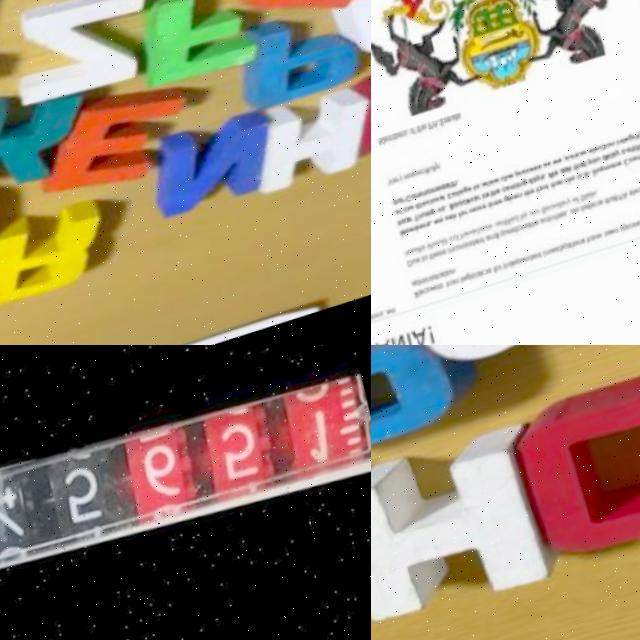1: (295, 410, 347, 479)
4: (0, 484, 32, 553)
5: (55, 463, 112, 539), (212, 423, 267, 495)
6: (135, 441, 190, 515)
A: (414, 329, 434, 345), (474, 197, 481, 207), (446, 185, 453, 195), (434, 124, 441, 133), (562, 205, 569, 213), (560, 172, 567, 180), (414, 284, 421, 291), (540, 190, 547, 197), (613, 156, 620, 163), (534, 180, 540, 188), (489, 237, 494, 246), (592, 240, 598, 247), (527, 227, 533, 234), (625, 197, 631, 204), (543, 222, 549, 229), (467, 235, 473, 242), (447, 219, 453, 226), (558, 185, 564, 192), (407, 219, 413, 226), (544, 167, 550, 174), (454, 118, 458, 126), (569, 248, 573, 255), (480, 275, 484, 282), (443, 275, 447, 282), (613, 201, 617, 208), (589, 197, 593, 204), (583, 166, 587, 173), (484, 186, 488, 193), (441, 199, 445, 206)
B: (604, 236, 612, 245), (530, 225, 538, 234), (479, 230, 487, 239), (417, 227, 425, 236), (582, 209, 589, 218), (451, 206, 458, 215), (394, 136, 401, 145), (523, 218, 527, 226)
C: (624, 163, 632, 173), (448, 196, 456, 205), (408, 197, 415, 207), (496, 225, 503, 233), (622, 153, 629, 161), (551, 209, 558, 216), (527, 172, 534, 179), (545, 221, 551, 228), (544, 189, 550, 196), (503, 190, 509, 197), (600, 150, 606, 157), (423, 172, 429, 179), (456, 249, 460, 256), (465, 202, 469, 209), (429, 202, 433, 209)
D: (529, 259, 537, 268), (517, 218, 524, 228), (418, 283, 425, 292), (444, 241, 451, 250), (603, 160, 610, 169), (502, 179, 509, 188), (497, 235, 502, 245), (409, 263, 416, 270), (530, 183, 536, 190), (512, 265, 516, 273)
E: (27, 67, 225, 209), (608, 157, 615, 165), (498, 191, 505, 199), (461, 192, 468, 200), (584, 154, 591, 162), (599, 238, 606, 245), (593, 207, 600, 214), (600, 204, 607, 211), (577, 211, 584, 218), (482, 230, 489, 237), (548, 210, 555, 217), (486, 229, 493, 236), (532, 192, 539, 199), (555, 174, 562, 181), (626, 152, 633, 159), (589, 153, 596, 160), (394, 180, 401, 187), (533, 257, 539, 265), (433, 288, 439, 296), (609, 234, 615, 242), (437, 254, 443, 262), (587, 208, 593, 216), (509, 232, 515, 240), (561, 216, 567, 224), (595, 195, 601, 203), (610, 168, 616, 176), (620, 165, 626, 173), (403, 220, 409, 228), (559, 162, 565, 170), (511, 177, 517, 185), (515, 264, 521, 271), (421, 292, 427, 299), (465, 280, 471, 287), (522, 261, 528, 268), (553, 252, 559, 259), (613, 233, 619, 240), (630, 195, 636, 202), (537, 224, 543, 231), (444, 252, 450, 259), (477, 242, 483, 249), (418, 260, 424, 267), (474, 233, 480, 240), (442, 221, 448, 228), (501, 202, 507, 209), (515, 197, 521, 204), (407, 231, 413, 238), (422, 226, 428, 233), (573, 180, 579, 187), (418, 207, 424, 214), (424, 204, 430, 211), (469, 190, 475, 197), (596, 151, 602, 158), (626, 142, 632, 149), (412, 207, 418, 214), (532, 171, 538, 178), (443, 188, 449, 195), (408, 176, 414, 183), (419, 173, 425, 180), (459, 117, 465, 124), (398, 135, 404, 142), (444, 121, 450, 128), (386, 139, 392, 146), (424, 128, 430, 135), (409, 253, 415, 259), (500, 225, 505, 232), (393, 310, 397, 317), (636, 193, 640, 200), (558, 207, 562, 214), (513, 221, 517, 228), (485, 207, 489, 214), (638, 226, 640, 233)
F: (123, 0, 272, 100), (496, 270, 501, 279), (448, 284, 453, 293), (578, 201, 583, 210), (460, 214, 465, 223), (538, 192, 543, 201), (414, 130, 419, 139), (428, 170, 432, 179), (510, 222, 514, 230), (637, 149, 640, 158), (402, 212, 405, 219)
G: (629, 139, 637, 149), (468, 276, 475, 286), (564, 247, 571, 256), (624, 228, 631, 237), (505, 198, 512, 207), (524, 182, 531, 191), (465, 190, 472, 199)
H: (371, 421, 565, 639), (241, 77, 371, 204), (431, 245, 439, 254), (419, 128, 427, 137), (588, 241, 595, 250), (570, 180, 577, 189), (399, 222, 406, 231), (463, 235, 468, 245), (528, 194, 535, 201), (555, 185, 560, 194), (455, 183, 460, 192), (578, 168, 584, 175), (408, 209, 414, 216), (609, 202, 613, 210), (434, 256, 438, 263), (495, 194, 499, 201)
I: (408, 334, 419, 345), (634, 150, 640, 160), (433, 278, 438, 287), (492, 204, 497, 213), (618, 145, 623, 154), (606, 148, 611, 157), (560, 216, 564, 226), (374, 316, 378, 325), (573, 246, 577, 255), (622, 231, 626, 240), (592, 207, 596, 216), (508, 222, 512, 231), (510, 199, 514, 208), (517, 186, 521, 195), (545, 256, 549, 264), (563, 249, 567, 257), (428, 280, 432, 288), (449, 274, 453, 282), (555, 218, 559, 226), (636, 139, 640, 147), (470, 246, 474, 252), (450, 251, 453, 258), (473, 278, 476, 285), (506, 268, 509, 274), (518, 231, 521, 237), (552, 220, 555, 226), (484, 198, 487, 204)
K: (0, 72, 95, 206), (454, 216, 462, 225), (569, 170, 577, 179), (468, 202, 472, 209)
L: (590, 208, 595, 216), (593, 152, 598, 160), (535, 224, 539, 233), (634, 194, 638, 203), (450, 185, 454, 194), (611, 158, 616, 165), (478, 276, 482, 284), (444, 242, 448, 250), (422, 205, 426, 213), (489, 184, 493, 192), (488, 184, 492, 192), (434, 169, 438, 177), (435, 169, 439, 177), (445, 199, 449, 205), (463, 281, 466, 287), (421, 251, 424, 257), (460, 195, 463, 201), (458, 194, 461, 200)
M: (402, 231, 410, 241), (380, 140, 387, 150), (495, 203, 502, 211), (427, 213, 434, 221), (456, 282, 463, 289), (614, 167, 621, 174), (471, 211, 478, 218), (512, 187, 519, 194), (423, 193, 430, 200), (417, 195, 424, 202), (423, 281, 429, 288), (413, 229, 419, 236), (391, 138, 397, 145)
N: (132, 104, 294, 226), (393, 336, 413, 345), (462, 246, 469, 254), (485, 195, 492, 203), (490, 228, 497, 235), (519, 196, 526, 203), (547, 254, 553, 262), (508, 265, 514, 273), (612, 146, 618, 154), (620, 143, 626, 151), (378, 315, 384, 322), (526, 261, 532, 268), (617, 232, 623, 239), (579, 244, 585, 251), (628, 229, 634, 236), (453, 272, 459, 279), (492, 238, 498, 245), (452, 250, 458, 257), (480, 241, 486, 248), (523, 228, 529, 235), (451, 240, 457, 247), (520, 185, 526, 192), (433, 191, 439, 198), (448, 120, 454, 127), (539, 257, 543, 264), (430, 279, 434, 286)
O: (508, 356, 640, 580), (341, 49, 371, 167), (523, 173, 530, 181), (412, 196, 419, 204), (484, 273, 490, 281), (459, 247, 465, 255), (463, 213, 469, 221), (576, 245, 582, 252), (520, 229, 526, 236), (426, 258, 432, 265), (532, 215, 538, 222), (455, 239, 461, 246), (575, 202, 581, 209), (630, 162, 636, 169), (460, 203, 466, 210), (456, 205, 462, 212), (593, 163, 599, 170), (508, 189, 514, 196), (397, 212, 403, 219), (491, 183, 497, 190), (453, 194, 459, 201), (433, 201, 439, 208), (478, 187, 484, 194), (395, 202, 401, 209), (429, 192, 435, 199), (498, 269, 504, 275), (477, 210, 483, 216), (452, 283, 457, 290), (411, 132, 416, 139), (376, 315, 380, 323), (633, 228, 637, 236), (450, 273, 454, 280), (438, 244, 442, 251), (609, 148, 613, 155)
P: (218, 0, 371, 124), (371, 345, 474, 491), (414, 172, 421, 182), (602, 169, 609, 178), (565, 159, 572, 168), (430, 125, 437, 134), (517, 174, 523, 183), (518, 262, 525, 269), (432, 211, 439, 218), (620, 198, 626, 206)
Q: (424, 289, 431, 298), (501, 234, 507, 241)
R: (0, 198, 120, 310), (417, 293, 424, 302), (478, 198, 485, 204), (439, 199, 444, 207), (412, 218, 417, 225), (630, 151, 635, 158), (635, 139, 639, 147), (636, 227, 640, 234), (540, 213, 544, 220), (555, 208, 559, 215), (607, 170, 611, 177), (426, 225, 430, 232), (467, 213, 471, 220), (404, 200, 408, 207), (406, 177, 410, 184), (403, 134, 407, 141), (502, 268, 506, 274), (407, 254, 411, 260), (637, 160, 640, 168), (521, 175, 525, 181), (574, 159, 578, 165), (489, 273, 492, 279), (504, 224, 507, 230), (568, 205, 571, 211), (421, 216, 424, 222), (399, 180, 402, 186), (450, 285, 453, 290), (441, 277, 444, 282), (483, 209, 486, 214)
S: (585, 175, 593, 185), (593, 173, 601, 182), (576, 156, 583, 166), (538, 167, 545, 177), (543, 211, 550, 220), (582, 199, 589, 208), (441, 122, 448, 131), (565, 170, 571, 179), (428, 247, 435, 254), (583, 242, 589, 250), (435, 277, 441, 285), (471, 244, 477, 252), (536, 169, 542, 177), (490, 271, 496, 278), (441, 253, 447, 260), (513, 231, 519, 238), (428, 224, 434, 231), (548, 166, 554, 173), (467, 245, 472, 252), (542, 178, 547, 185), (558, 250, 562, 258), (413, 251, 417, 259), (452, 217, 456, 225), (390, 312, 394, 319), (383, 313, 387, 320), (443, 286, 447, 293), (475, 277, 479, 284), (566, 215, 570, 222), (425, 248, 429, 255), (444, 208, 448, 215), (413, 175, 417, 182), (406, 133, 410, 140), (438, 287, 442, 293)
T: (540, 256, 546, 265), (571, 246, 577, 255), (560, 206, 566, 215), (561, 249, 566, 259), (484, 239, 489, 249), (585, 165, 590, 175), (474, 187, 479, 197), (395, 309, 400, 318), (459, 237, 464, 246), (456, 117, 461, 126), (416, 218, 422, 225), (547, 188, 552, 196), (417, 130, 422, 138), (438, 277, 442, 286), (446, 275, 450, 284), (559, 217, 563, 226), (575, 169, 579, 178), (371, 318, 376, 325), (633, 152, 638, 159), (550, 220, 554, 228), (606, 203, 610, 211), (475, 243, 479, 251), (516, 230, 520, 238), (506, 223, 510, 231), (432, 202, 436, 210), (452, 185, 456, 193), (427, 171, 431, 179), (483, 275, 487, 282), (424, 259, 428, 266), (526, 195, 530, 202), (490, 206, 494, 213), (562, 184, 566, 191), (567, 182, 571, 189), (492, 195, 496, 202), (405, 210, 409, 217), (624, 143, 628, 150), (422, 250, 426, 256), (441, 288, 444, 294), (433, 257, 436, 263), (617, 201, 620, 207), (588, 199, 591, 205), (593, 198, 596, 204), (553, 187, 556, 193), (605, 151, 608, 157)
U: (579, 177, 586, 186), (416, 250, 423, 257), (599, 172, 606, 179), (569, 159, 576, 166), (507, 178, 514, 185), (398, 201, 405, 208), (414, 261, 420, 269), (634, 161, 640, 169), (423, 214, 429, 222), (429, 290, 435, 297), (505, 234, 511, 241), (536, 214, 542, 221), (440, 243, 446, 250), (597, 162, 603, 169), (581, 156, 587, 163), (431, 169, 435, 176), (371, 317, 372, 324)
V: (390, 181, 397, 192), (596, 239, 603, 247), (597, 205, 604, 212), (439, 209, 445, 217), (470, 234, 476, 241), (471, 200, 477, 207), (513, 198, 517, 206), (552, 253, 556, 260), (554, 219, 558, 226)
W: (549, 175, 559, 185), (436, 221, 442, 229), (573, 213, 579, 220), (496, 182, 502, 189), (555, 164, 561, 171), (438, 189, 444, 196)
Y: (616, 153, 624, 163), (525, 215, 532, 224), (569, 202, 574, 211), (589, 163, 594, 172), (436, 166, 441, 175), (538, 179, 544, 186), (401, 177, 406, 185)
Z: (3, 0, 180, 111)
